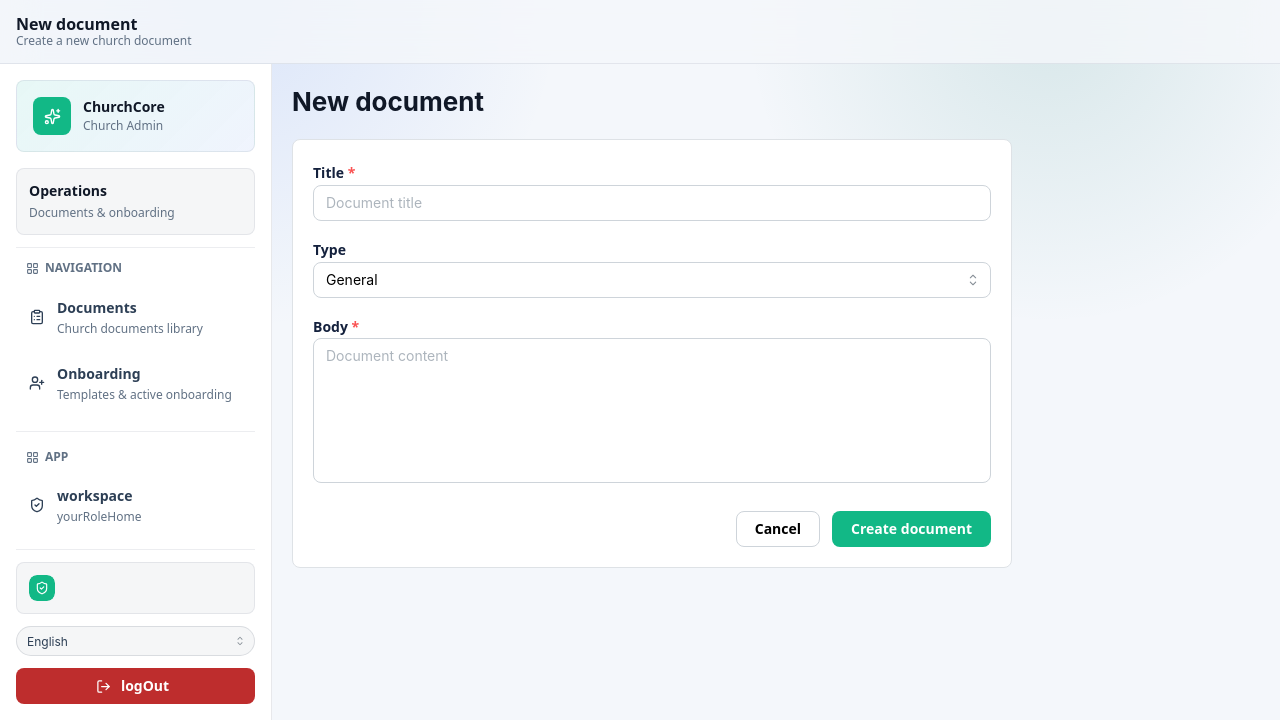
Scenario: OperationsDocumentFormClient — create mode › shows inline body error when body is empty on submit
Type "Test Title" into the field labelled "Title *" at (652, 203), box x1=313 y1=185 x2=991 y2=221
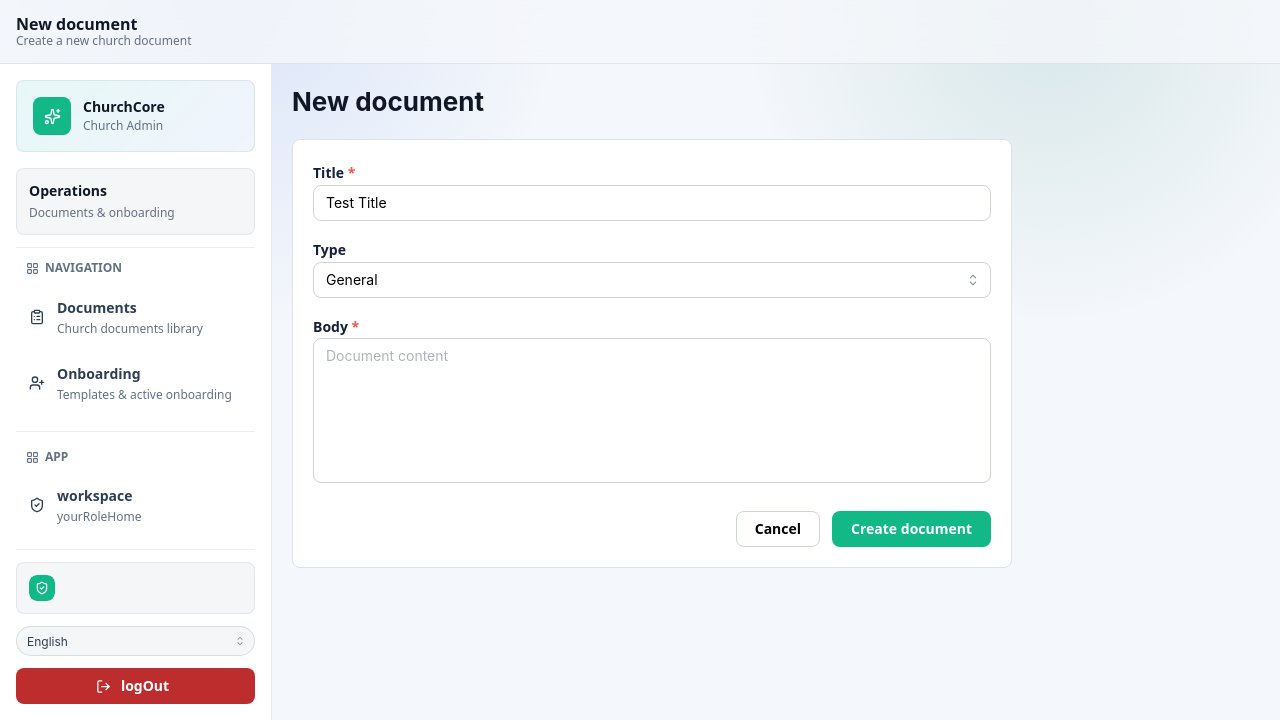
Submit the form "Title * Type Body * Cancel Create document", box x1=313 y1=160 x2=991 y2=548
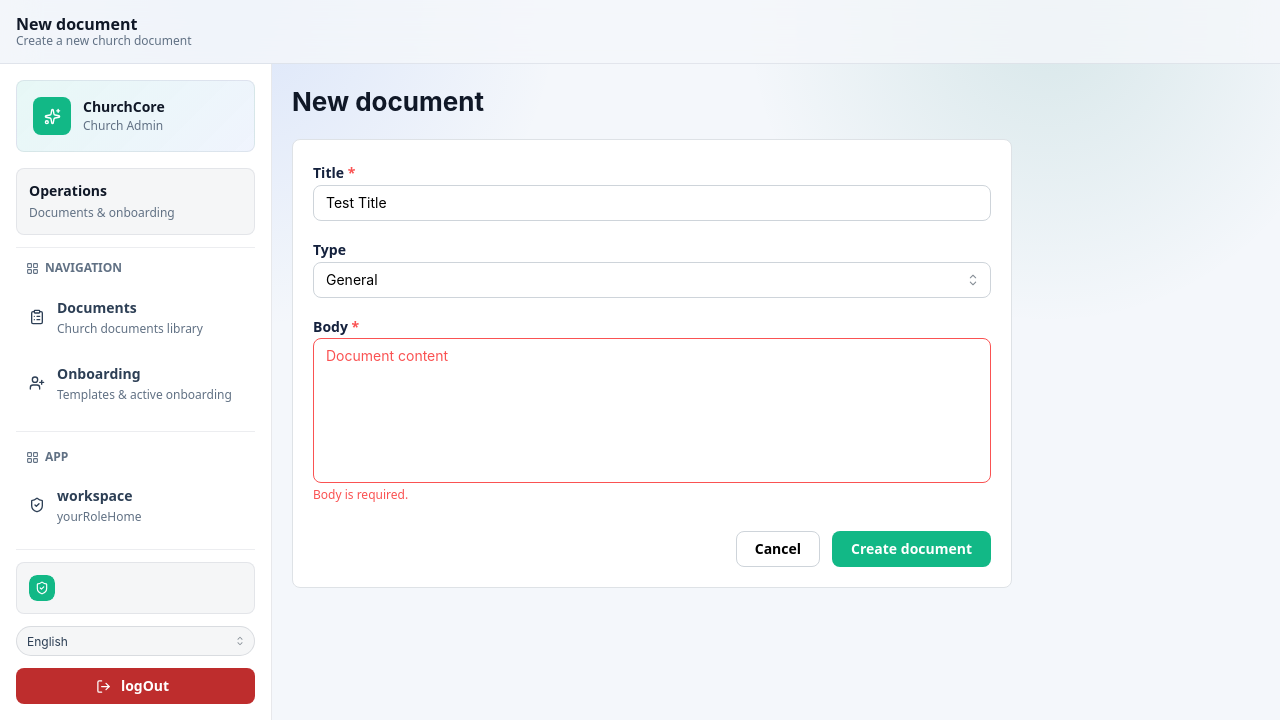
Now the text "Body is required." is shown, box x1=313 y1=486 x2=408 y2=504
